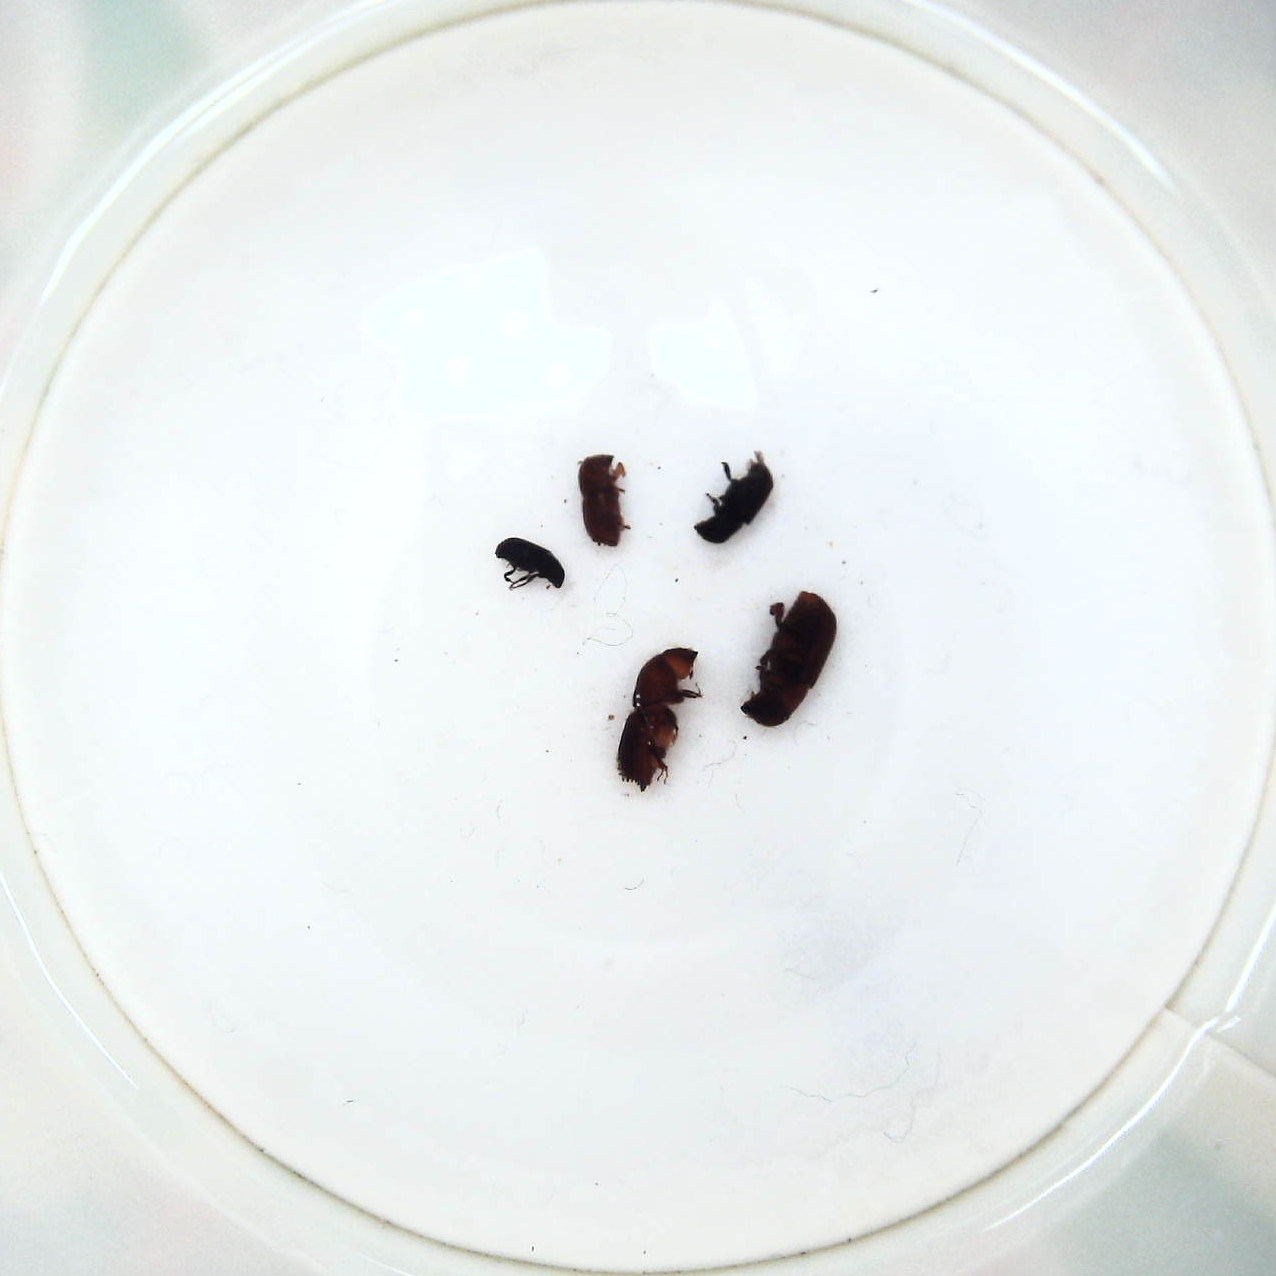Boerner: (610, 642, 707, 789)
Leconte: (737, 581, 842, 731)
armandi: (693, 452, 781, 547)
coleoptera: (495, 532, 574, 596)
linnaeus: (574, 449, 632, 554)
